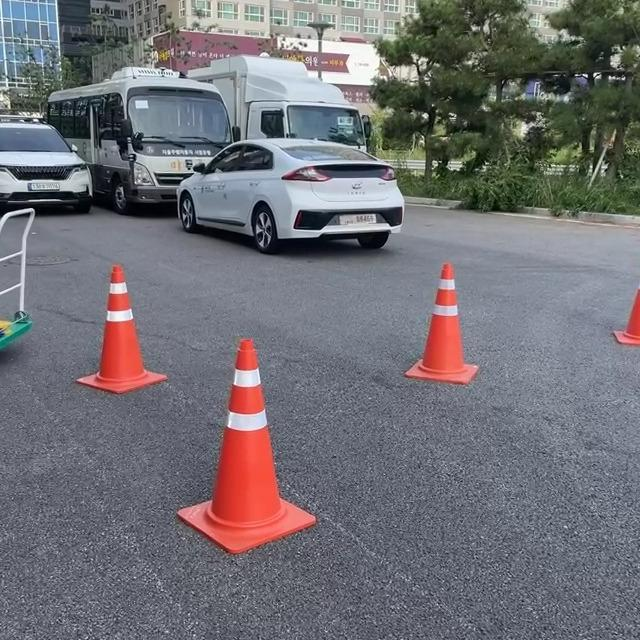fallen_object: (160, 325, 337, 556), (55, 250, 179, 418), (386, 256, 493, 411)
